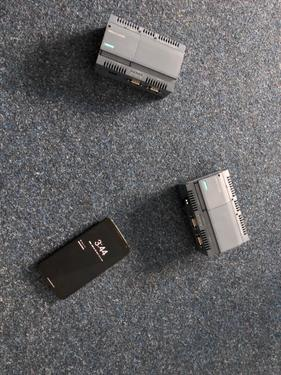device: (94, 15, 186, 99), (178, 170, 250, 258)
